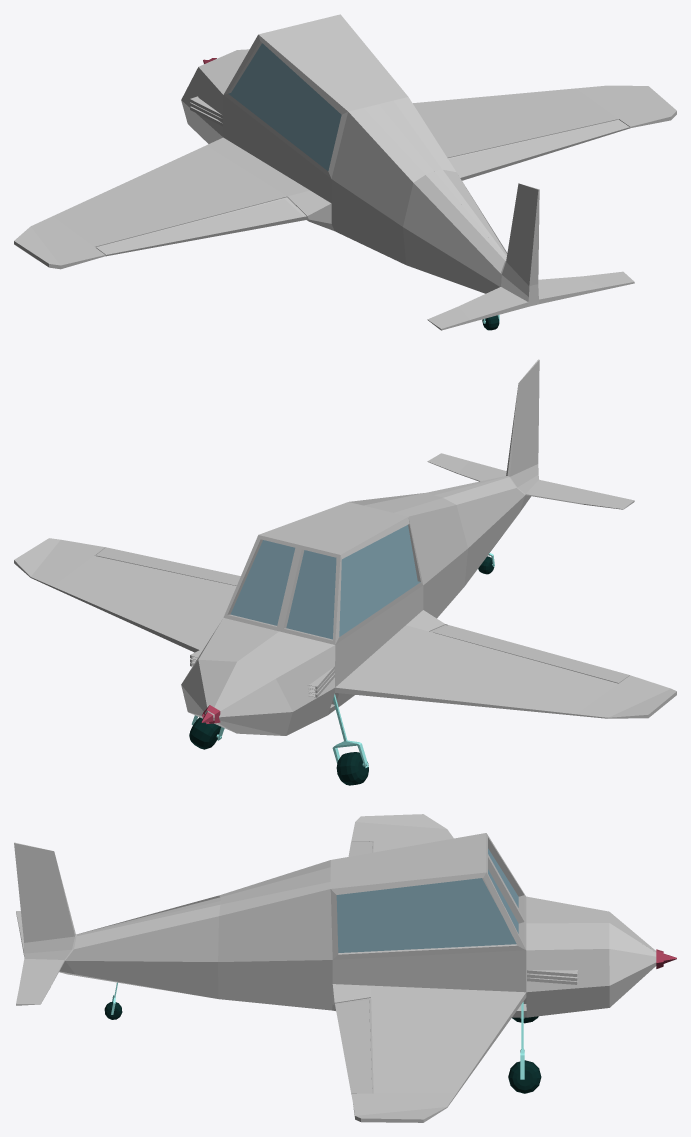
Rendered from Chassis.obj.
3 renders of one model, top to bottom at view 1: azimuth 30°, elevation 25°; view 2: azimuth 150°, elevation 25°; view 3: azimuth 270°, elevation 25°, orthographic.
Bounding box in the file's own units: 869 × 285 × 797.
